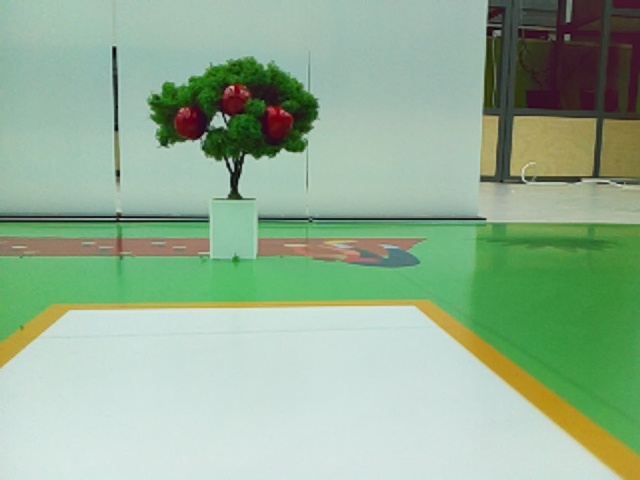apple: (266, 105, 293, 137), (222, 84, 251, 113), (174, 107, 197, 138)
